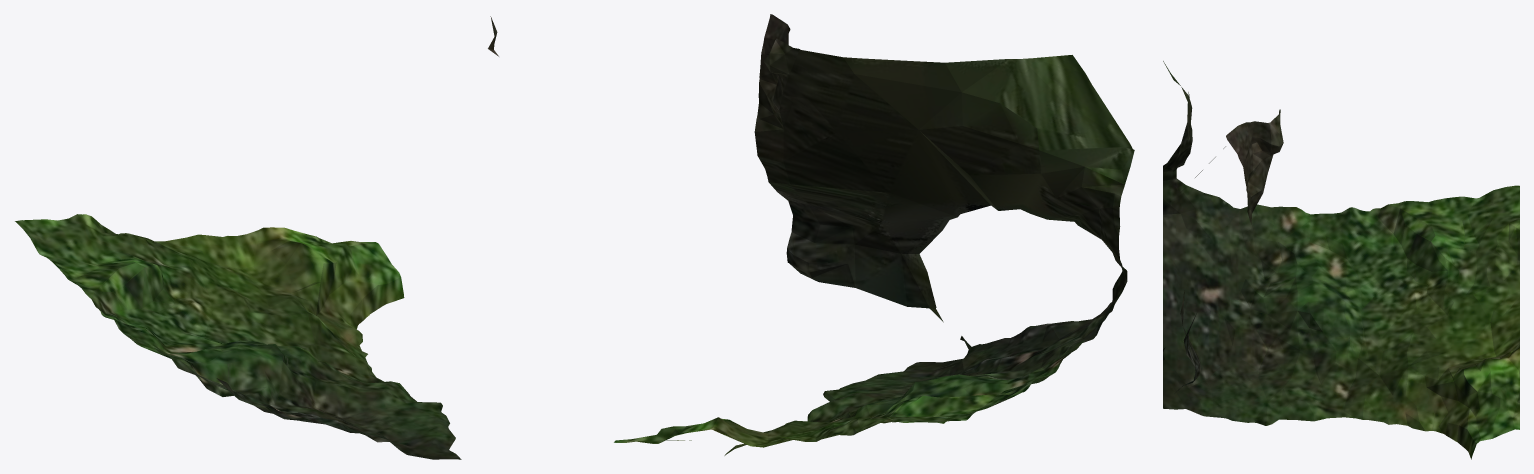
3 renders of one model, left to right at view 1: azimuth 30°, elevation 25°; view 2: azimuth 150°, elevation 25°; view 3: azimuth 270°, elevation 25°, orthographic. The views are drawn at different scales.
Bounding box in the file's own units: 1.67 × 1.67 × 1.67.
4 materials, 4 textured.
